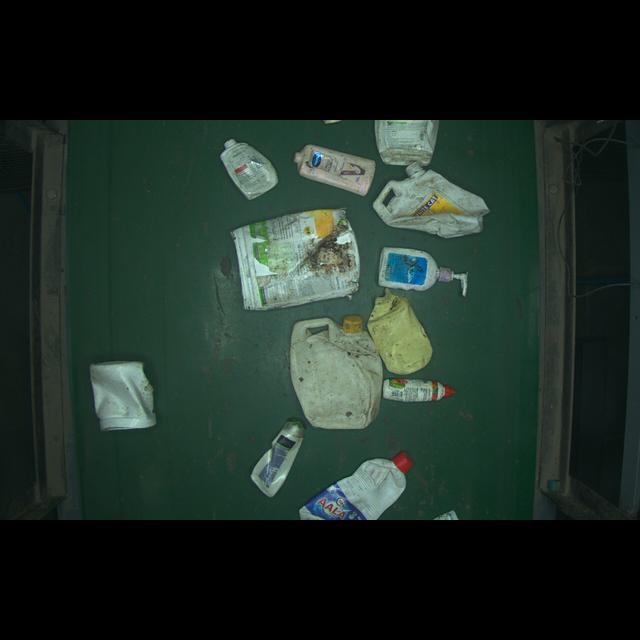mix PET: (292, 135, 382, 201), (218, 135, 285, 201), (252, 417, 305, 497), (382, 248, 475, 293), (382, 372, 456, 404)
